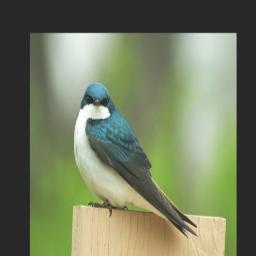Swallow: (72, 81, 200, 239)
